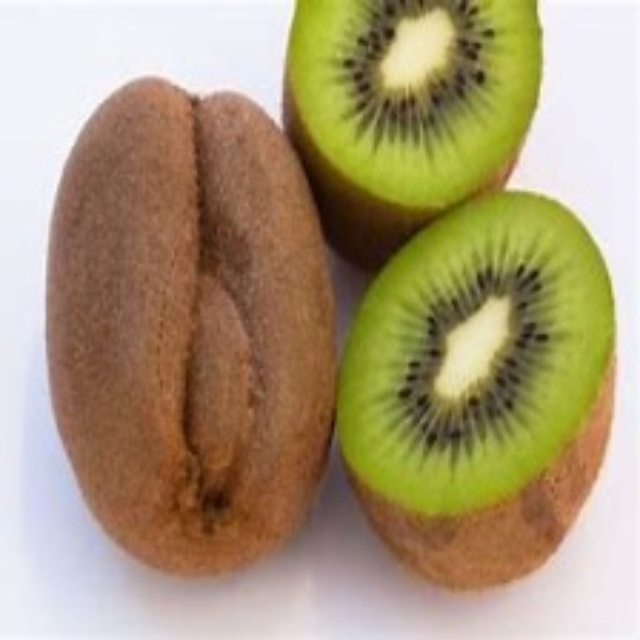kiwi: (45, 80, 327, 573), (339, 187, 616, 598), (283, 0, 542, 273)
